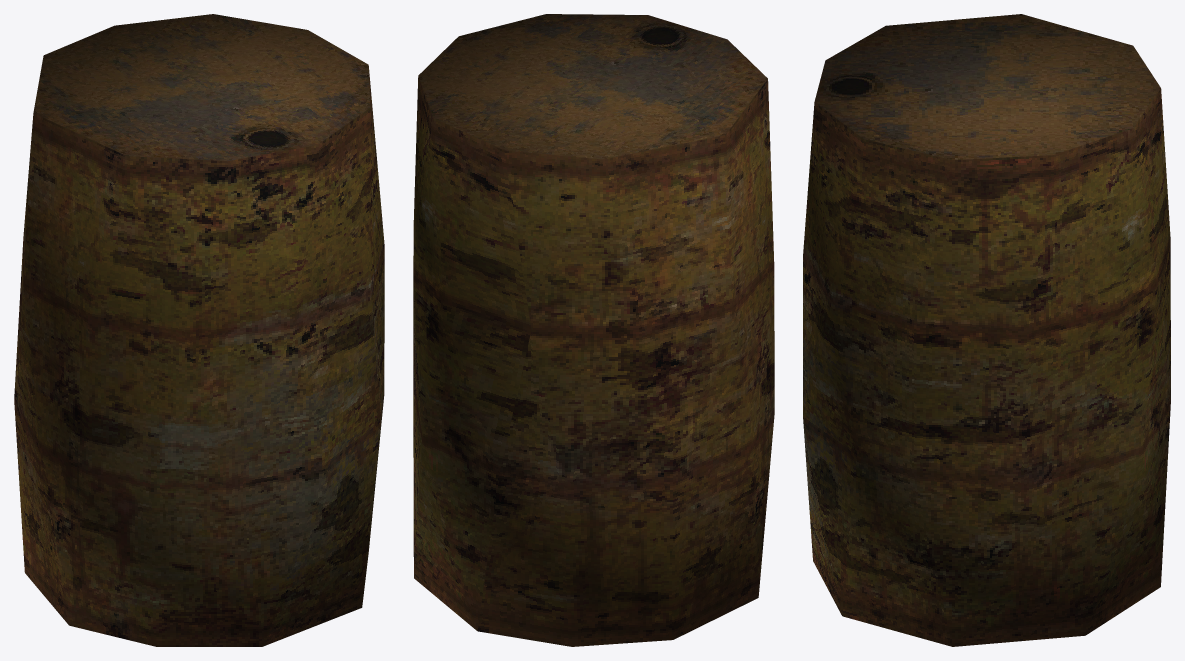
Rendered from metal_barrel_mp_1.glb.
3 renders of one model, left to right at view 1: azimuth 30°, elevation 25°; view 2: azimuth 150°, elevation 25°; view 3: azimuth 270°, elevation 25°, orthographic.
Visible parts, largest first — view 1: metal_barrel_mp_1; view 2: metal_barrel_mp_1; view 3: metal_barrel_mp_1.
Boxes of the visible parts, x1,y1,x2,y2 form: metal_barrel_mp_1: [14, 14, 384, 646]; metal_barrel_mp_1: [413, 14, 774, 646]; metal_barrel_mp_1: [803, 14, 1170, 646].
Bounding box in the file's own units: 0.7377 × 1.08 × 0.7373.
Materials: 1 (1 with a texture image).
